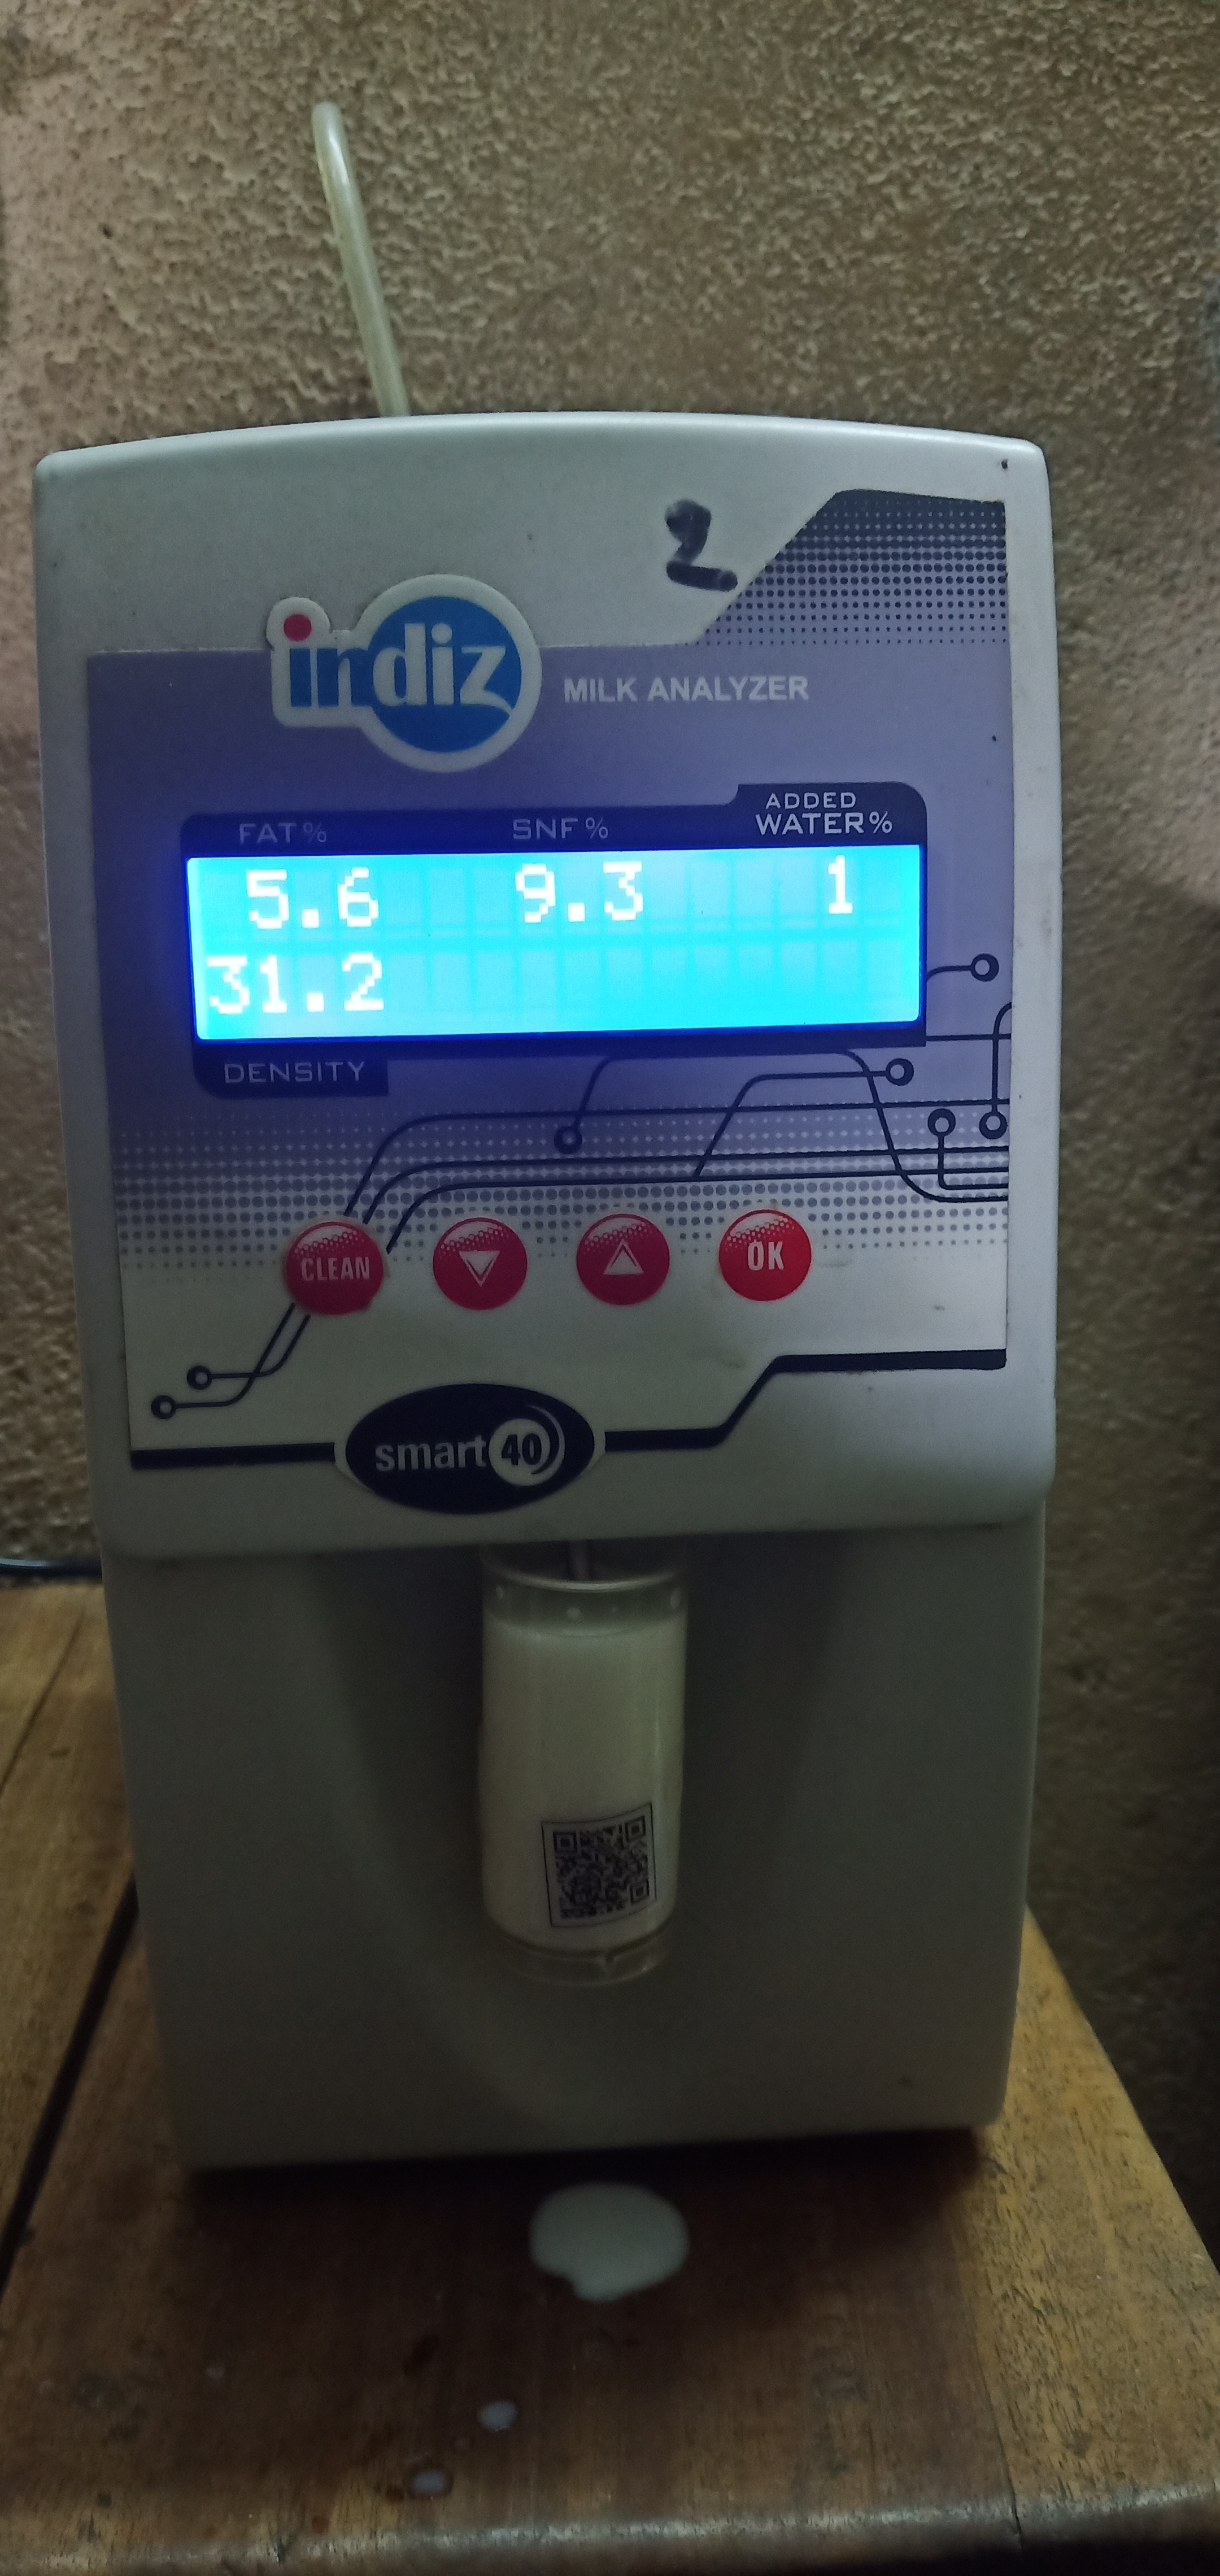lcd: (189, 803, 934, 1069)
qr: (527, 1787, 672, 1945)
